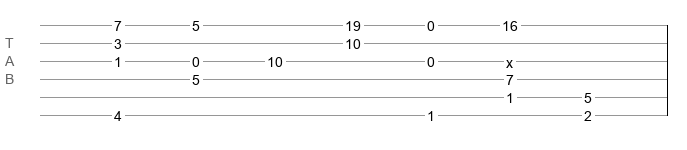0: (192, 54, 200, 64), (427, 18, 435, 28), (427, 54, 435, 64)
1: (114, 54, 122, 64), (427, 108, 435, 118), (506, 90, 514, 100)
10: (267, 54, 283, 64), (345, 36, 361, 46)
16: (502, 18, 518, 28)
19: (345, 18, 361, 28)
2: (584, 108, 592, 118)
3: (114, 36, 122, 46)
4: (114, 108, 122, 118)
5: (192, 72, 200, 82), (192, 18, 200, 28), (584, 90, 592, 100)
7: (114, 18, 122, 28), (506, 72, 514, 82)
x: (506, 55, 513, 63)
